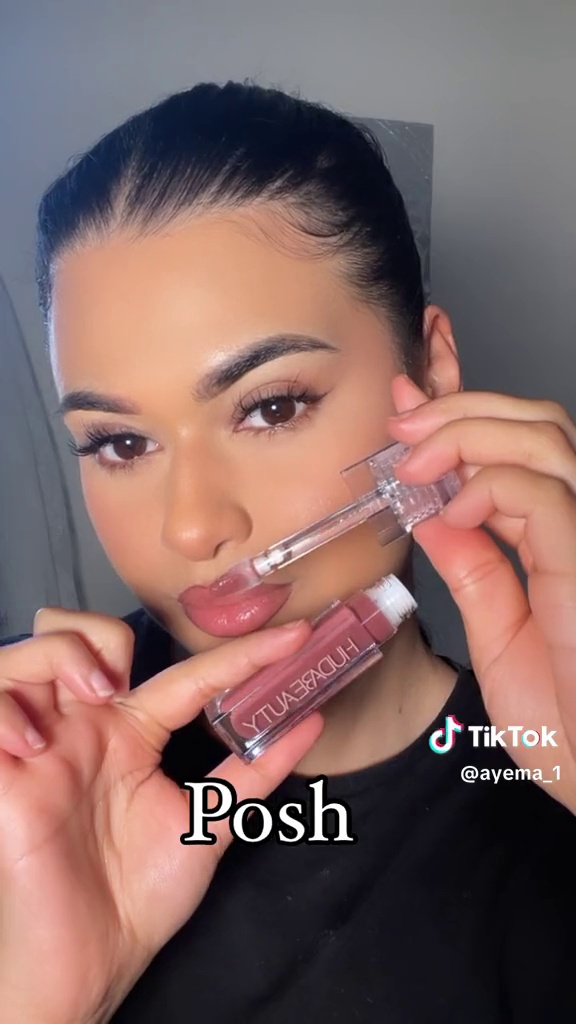train' :'yolo_data/train/images',: (195, 413, 466, 609), (181, 572, 424, 768)
